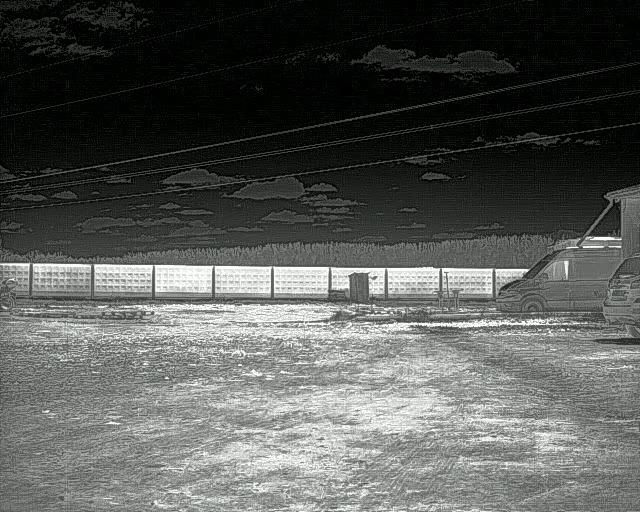ufo-thermal: (369, 273, 379, 282)
